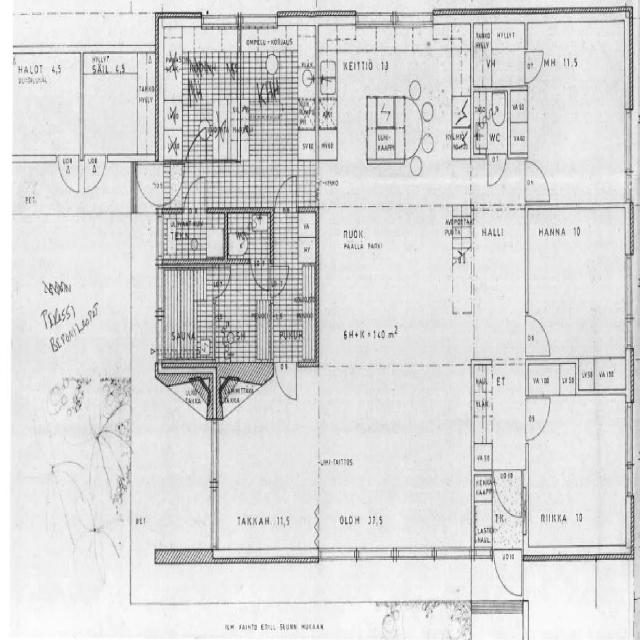door: (493, 546, 523, 598), (523, 310, 552, 360), (523, 394, 552, 443), (524, 159, 551, 205), (136, 161, 160, 208), (275, 359, 299, 403), (56, 153, 81, 195), (84, 152, 107, 195), (522, 49, 546, 85), (487, 150, 507, 188), (274, 178, 294, 214), (248, 261, 268, 293)
window: (206, 416, 222, 488), (622, 249, 636, 327), (621, 106, 635, 182), (623, 434, 637, 502), (318, 544, 359, 566), (624, 400, 636, 472), (395, 544, 434, 566), (624, 314, 636, 350)
zone: (316, 20, 472, 187), (528, 18, 628, 207), (525, 392, 630, 558), (526, 205, 629, 362), (161, 258, 265, 365), (239, 22, 317, 158), (162, 21, 238, 149), (471, 209, 527, 363), (15, 49, 83, 157), (82, 57, 147, 159), (271, 265, 317, 365), (473, 19, 526, 90), (165, 208, 227, 264), (226, 209, 273, 262), (473, 89, 509, 158), (492, 467, 524, 519), (472, 479, 493, 556), (524, 360, 564, 398), (509, 89, 528, 156)
